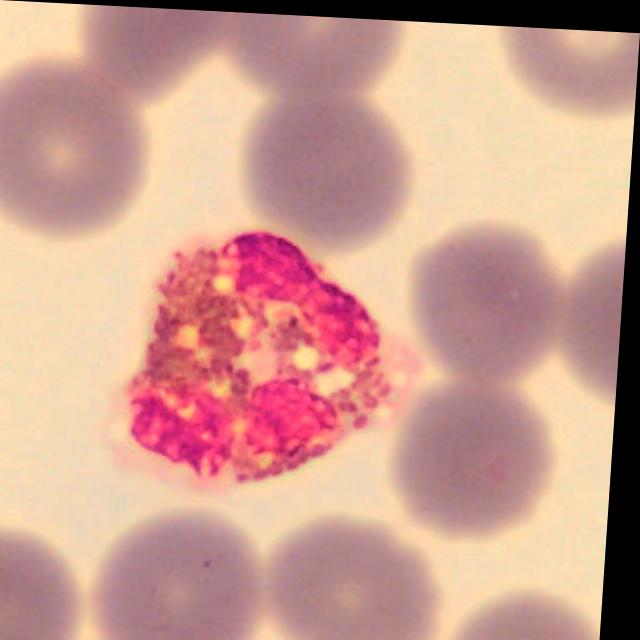Eosinofilo: (124, 229, 399, 489)
